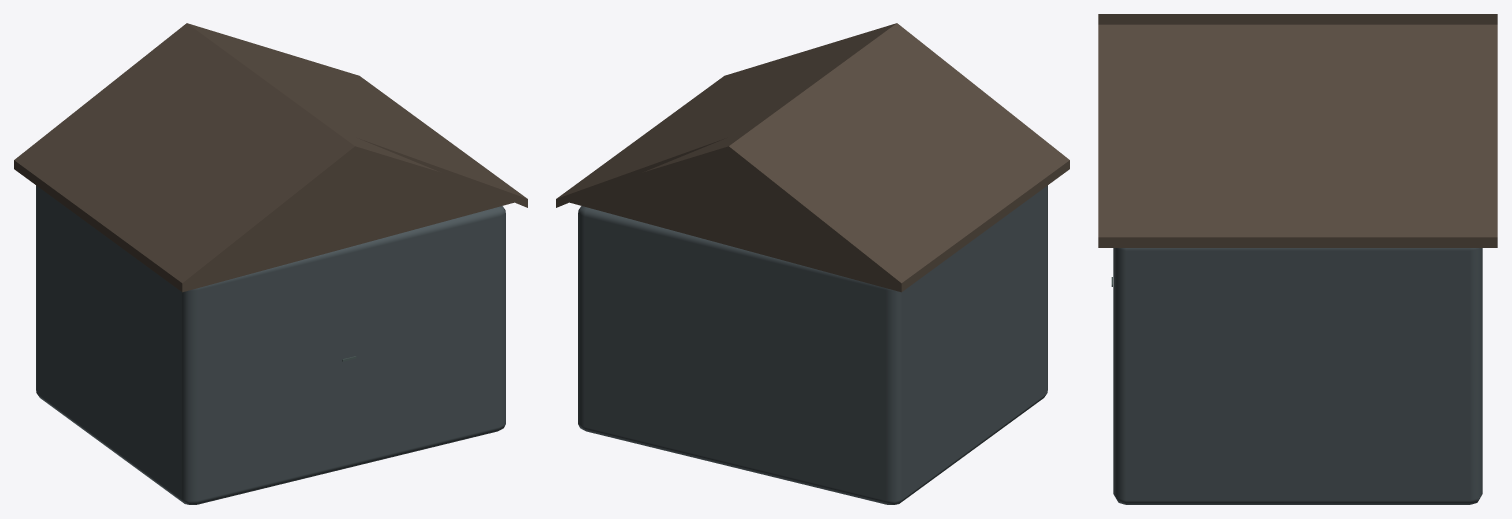
File: pump-house-3.glb
The picture shows the model from 3 angles, left to right: view 1: azimuth 30°, elevation 25°; view 2: azimuth 150°, elevation 25°; view 3: azimuth 270°, elevation 25°; orthographic projection. The views are drawn at different scales.
Visible parts, largest first — view 1: pump-house/2/KR-230-3; view 2: pump-house/2/KR-230-3; view 3: pump-house/2/KR-230-3.
Part boxes in pixels (x1,y1,x2,y2): pump-house/2/KR-230-3: (14, 23, 527, 504); pump-house/2/KR-230-3: (556, 23, 1069, 504); pump-house/2/KR-230-3: (1098, 14, 1497, 504).
Size of the model in its own units: 6.4 by 6 by 5.4.
